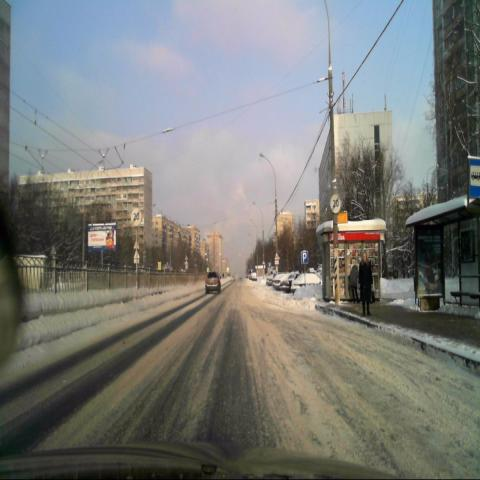3_25: (330, 194, 341, 214)
